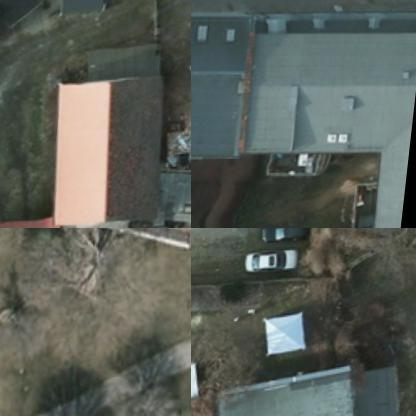car: (244, 244, 300, 272), (260, 228, 312, 245)
